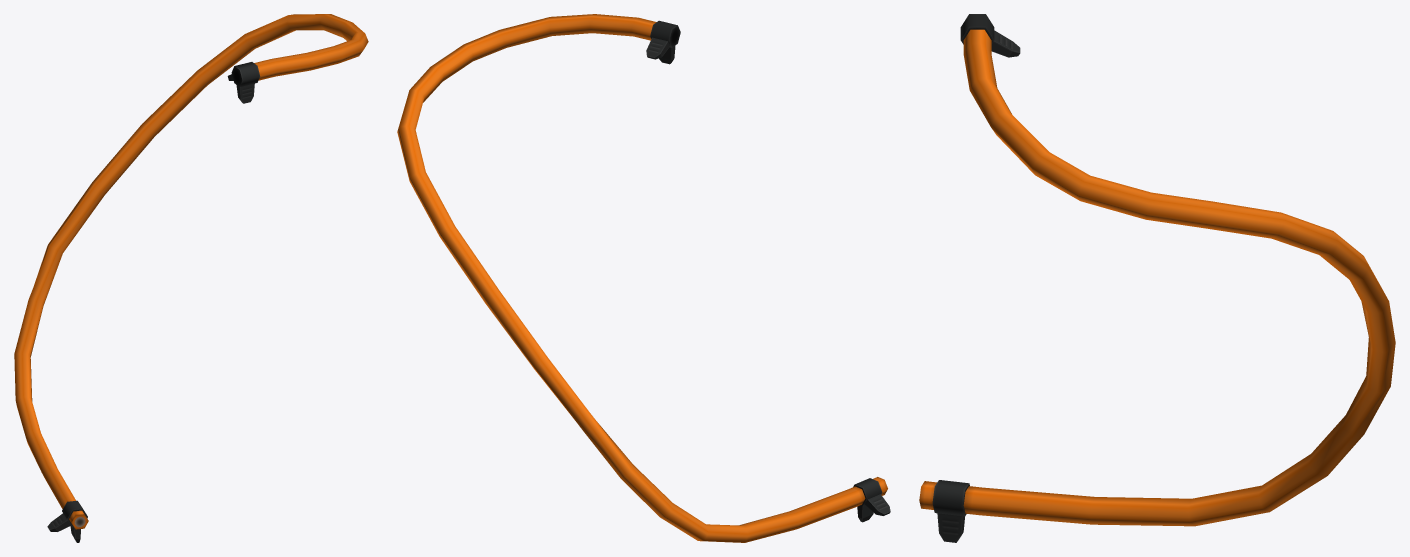
File: jsf_GasRange_10a.fbx
The picture shows the model from 3 angles, left to right: view 1: azimuth 30°, elevation 25°; view 2: azimuth 150°, elevation 25°; view 3: azimuth 270°, elevation 25°; orthographic projection. The views are drawn at different scales.
Visible parts, largest first — view 1: GasHose; view 2: GasHose; view 3: GasHose.
Boxes of the visible parts, x1,y1,x2,y2 form: GasHose: (14, 14, 368, 542); GasHose: (397, 14, 890, 542); GasHose: (919, 14, 1395, 542).
Size of the model in its own units: 41.53 by 45.77 by 30.23.
